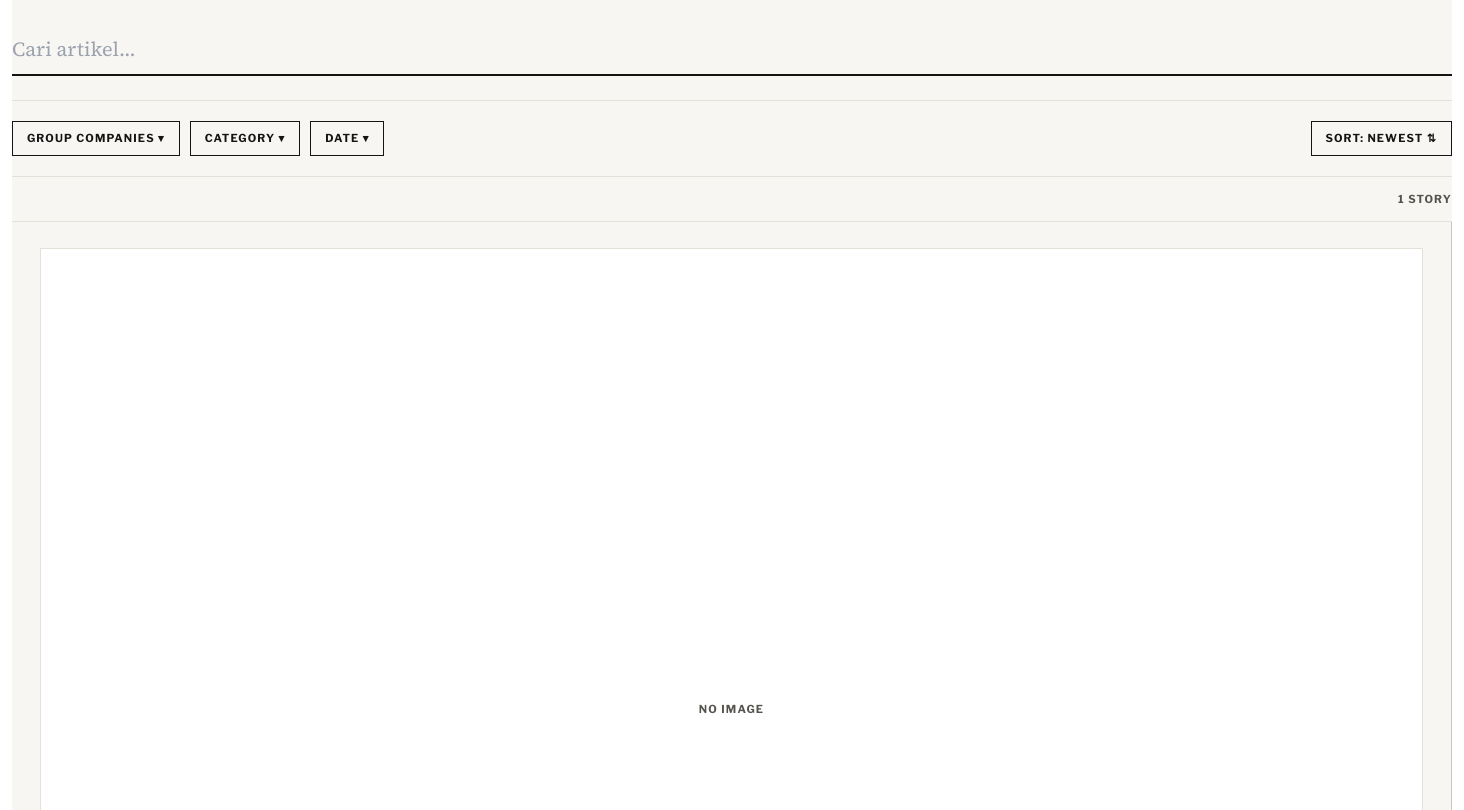
Test: NewsExplorer › selecting an anak usaha pushes ?anakUsaha=<slug> using the real catalog
Later steps or results of the test are not shown.
Click the button "Group Companies ▾".
click(96, 138)  # box [12,121,180,156]
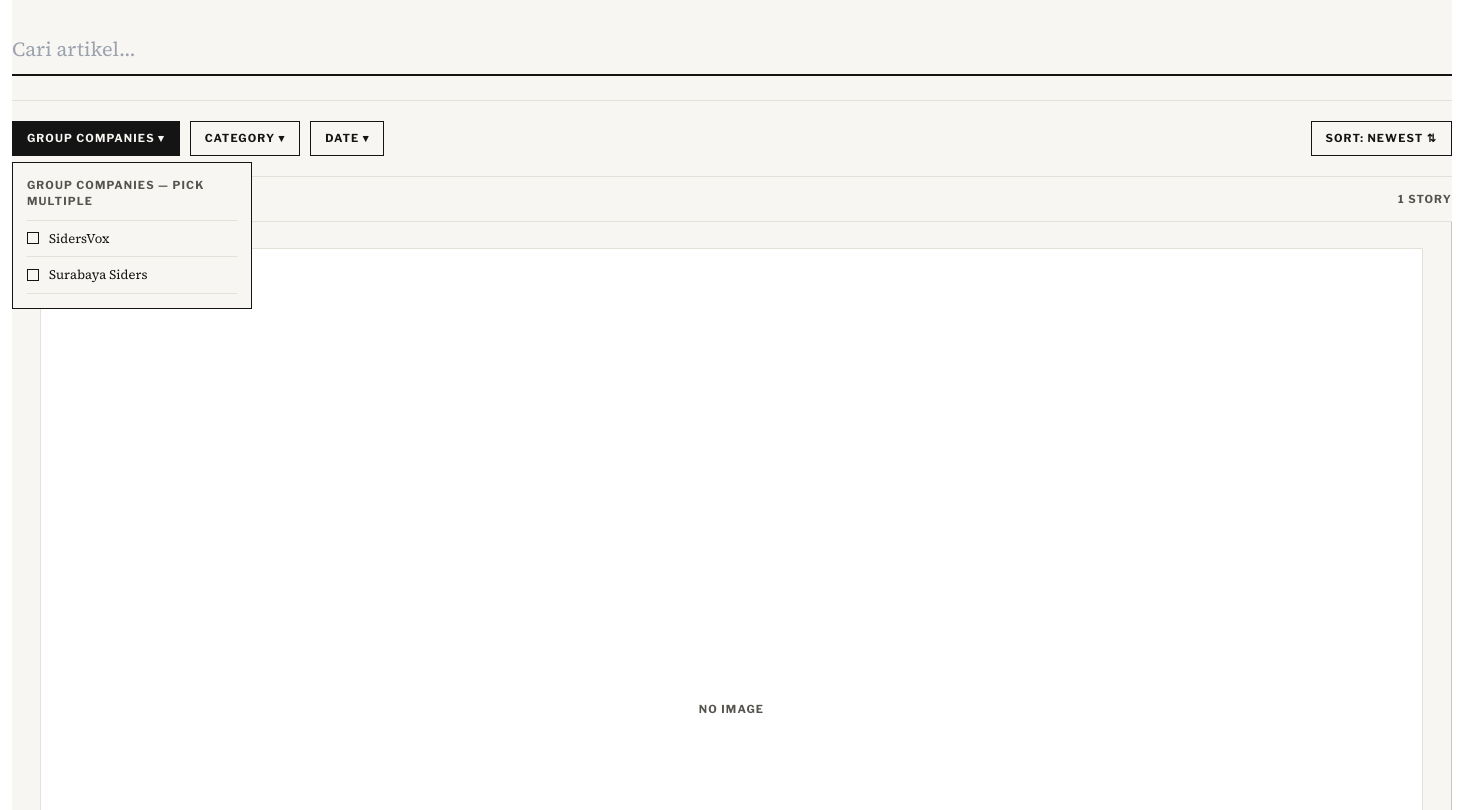
Result: the button "SidersVox" is shown at [27,220,237,257]
